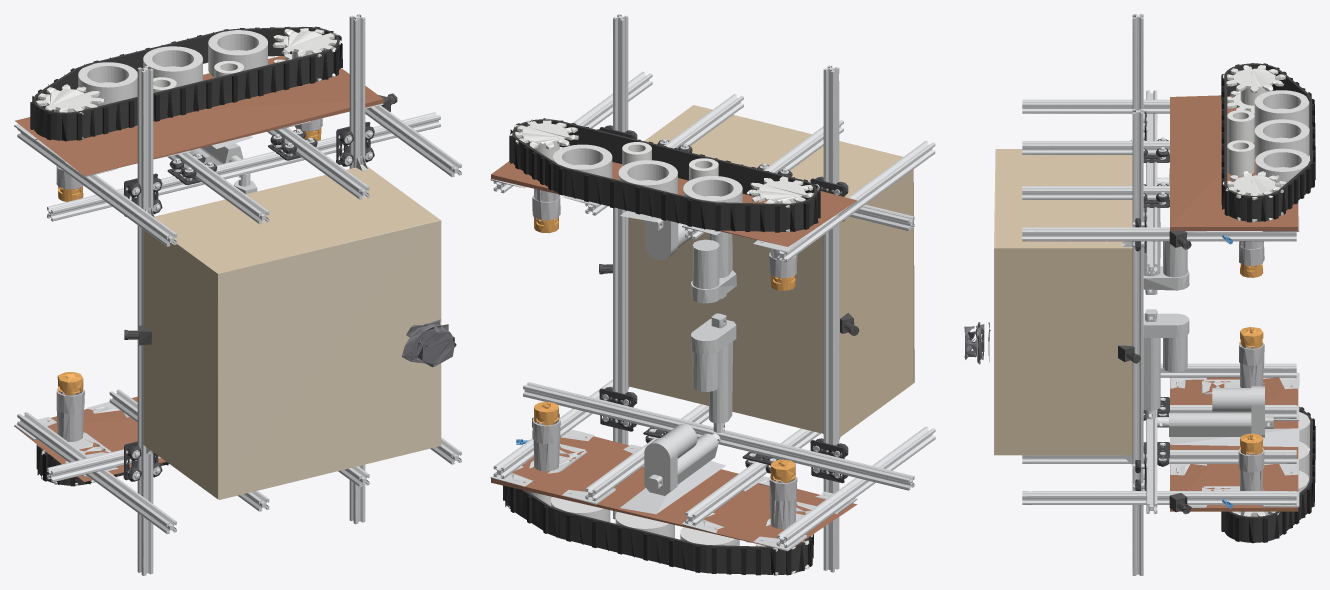
File: cropsentry.glb
The picture shows the model from 3 angles, left to right: view 1: azimuth 30°, elevation 25°; view 2: azimuth 150°, elevation 25°; view 3: azimuth 270°, elevation 25°; orthographic projection. The views are drawn at different scales.
Parts seen in each view (by area): view 1: body_m3, body_m2, mod_l_m8, body_m0, mod_l_m5, mod_l_m0, mod_l_m9, mod_r_m0, rail_l_m0, mod_l_m6, mod_r_m8, rail_l_m1 (+9 smaller); view 2: body_m2, body_m0, mod_r_m0, mod_r_m8, mod_l_m5, mod_l_m0, body_m1, rail_r_m0, mod_r_m5, mod_l_m9, mod_l_m6, mod_r_m6 (+14 smaller); view 3: body_m2, mod_r_m0, mod_l_m0, mod_l_m8, body_m0, mod_r_m8, body_m1, mod_l_m9, mod_r_m2, mod_l_m5, mod_l_m6, mod_r_m3 (+14 smaller).
Boxes of the visible parts, x1,y1,x2,y2 form: body_m3: (218, 220, 441, 499); body_m2: (143, 166, 439, 499); mod_l_m8: (15, 56, 383, 175); body_m0: (137, 14, 367, 575); mod_l_m5: (33, 27, 339, 140); mod_l_m0: (14, 103, 461, 246); mod_l_m9: (78, 30, 267, 109); mod_r_m0: (14, 389, 461, 534); rail_l_m0: (47, 112, 440, 221); mod_l_m6: (30, 26, 342, 141); mod_r_m8: (17, 396, 166, 481); rail_l_m1: (124, 122, 374, 216); body_m2: (628, 105, 913, 437); body_m0: (613, 14, 840, 572); mod_r_m0: (490, 379, 935, 551); mod_r_m8: (491, 436, 857, 548); mod_l_m5: (512, 119, 817, 231); mod_l_m0: (490, 71, 935, 262); body_m1: (691, 230, 736, 423); rail_r_m0: (523, 382, 914, 490); mod_r_m5: (507, 487, 810, 574); mod_l_m9: (553, 144, 742, 202); mod_l_m6: (509, 118, 820, 232); mod_r_m6: (503, 485, 813, 575); body_m2: (995, 149, 1132, 455); mod_r_m0: (1022, 363, 1299, 507); mod_l_m0: (1022, 99, 1299, 241); mod_l_m8: (1170, 95, 1298, 230); body_m0: (1121, 14, 1143, 575); mod_r_m8: (1170, 377, 1298, 511); body_m1: (1143, 208, 1189, 410); mod_l_m9: (1254, 90, 1309, 192); mod_r_m2: (1169, 386, 1273, 437); mod_l_m5: (1224, 63, 1312, 221); mod_l_m6: (1221, 63, 1315, 222); mod_r_m3: (1238, 342, 1264, 490).
Bounding box in the file's own units: 0.75 × 0.93 × 0.6404.
